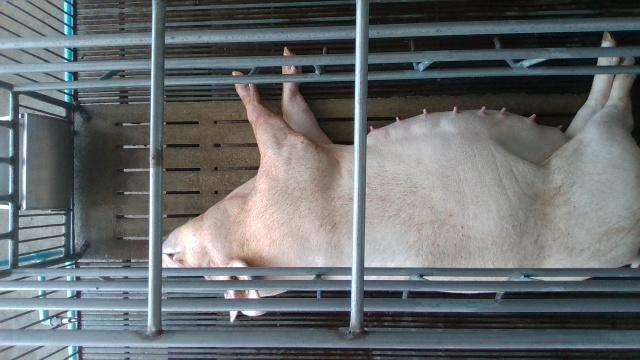sow-sleep-lactate: (162, 30, 640, 324)
